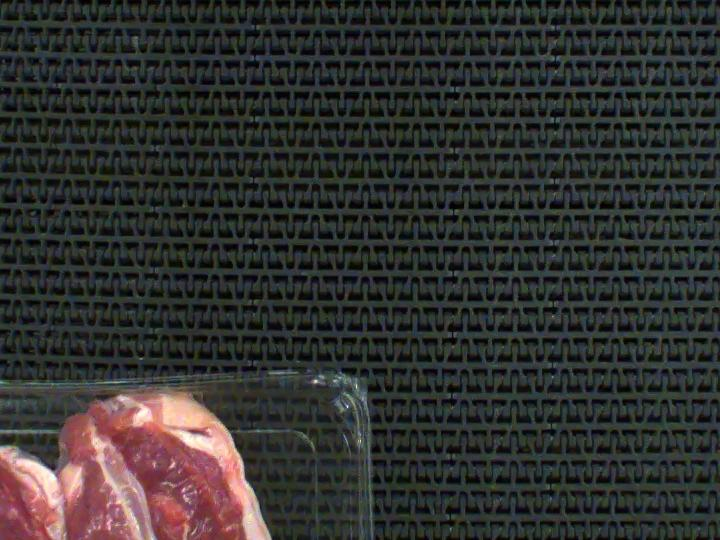packaging-error: (110, 362, 233, 439)
